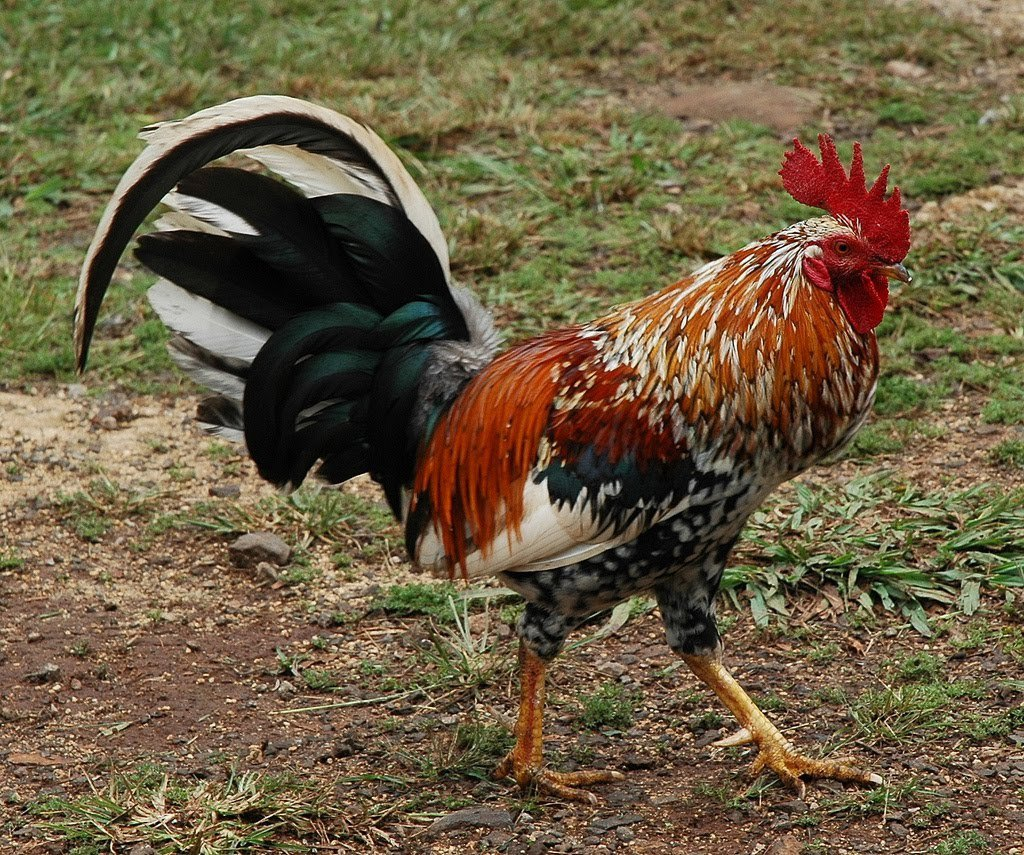chicken: (68, 89, 918, 813)
